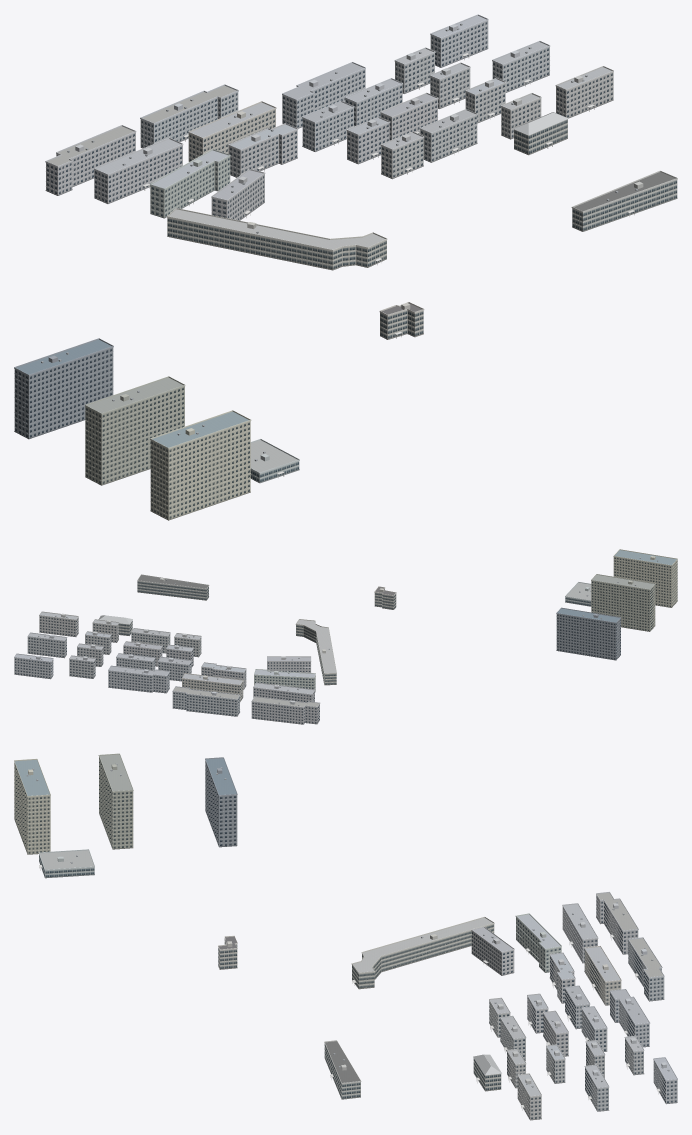
3 views of the same model, one above another, from view 1: azimuth 30°, elevation 25°; view 2: azimuth 150°, elevation 25°; view 3: azimuth 270°, elevation 25° (orthographic). The views are drawn at different scales.
Parts seen in each view (by area): view 1: manual-12, manual-7, manual-3, 1425504862, 1425305058, 1425305065, 1316175152, 1425305057, 1425305059, 1425305068, 1425305067, 1425305066 (+17 smaller); view 2: manual-7, manual-3, manual-12, 1425305057, 1425305065, 1425305068, 1425504862, 1316175152, 1425305067, 1425305059, 1425305058, 1425305083 (+17 smaller); view 3: 1425504862, manual-12, manual-7, manual-3, 1425305065, 1425305057, 1425305059, 1425305060, 1425305068, 862952698, 1425305067, 1316175152 (+15 smaller).
Boxes of the visible parts, x1,y1,x2,y2 form: manual-12: [150, 410, 251, 520]; manual-7: [85, 376, 185, 485]; manual-3: [14, 338, 113, 439]; 1425504862: [167, 208, 387, 270]; 1425305058: [94, 137, 183, 203]; 1425305065: [140, 84, 238, 148]; 1316175152: [571, 170, 677, 231]; 1425305057: [45, 125, 136, 195]; 1425305059: [150, 149, 230, 218]; 1425305068: [282, 62, 365, 128]; 1425305067: [188, 101, 276, 161]; 1425305066: [228, 123, 298, 177]; manual-7: [591, 574, 655, 631]; manual-3: [556, 607, 621, 660]; manual-12: [613, 549, 677, 607]; 1425305057: [251, 696, 320, 724]; 1425305065: [172, 686, 240, 716]; 1425305068: [108, 665, 169, 693]; 1425504862: [295, 619, 336, 685]; 1316175152: [137, 574, 209, 600]; 1425305067: [181, 673, 243, 701]; 1425305059: [254, 669, 315, 692]; 1425305058: [253, 682, 315, 702]; 1425305083: [14, 653, 53, 679]; 1425504862: [351, 916, 494, 989]; manual-12: [14, 758, 50, 854]; manual-7: [98, 753, 133, 849]; manual-3: [205, 757, 237, 847]; 1425305065: [628, 937, 664, 1001]; 1425305057: [596, 891, 638, 954]; 1425305059: [515, 913, 561, 972]; 1425305060: [471, 926, 514, 975]; 1425305068: [609, 989, 650, 1047]; 862952698: [38, 849, 94, 878]; 1425305067: [584, 945, 621, 1005]; 1316175152: [324, 1040, 361, 1099].
Bounding box in the file's own units: 637 × 58.2 × 575.
Materials: 5 (4 with a texture image).
